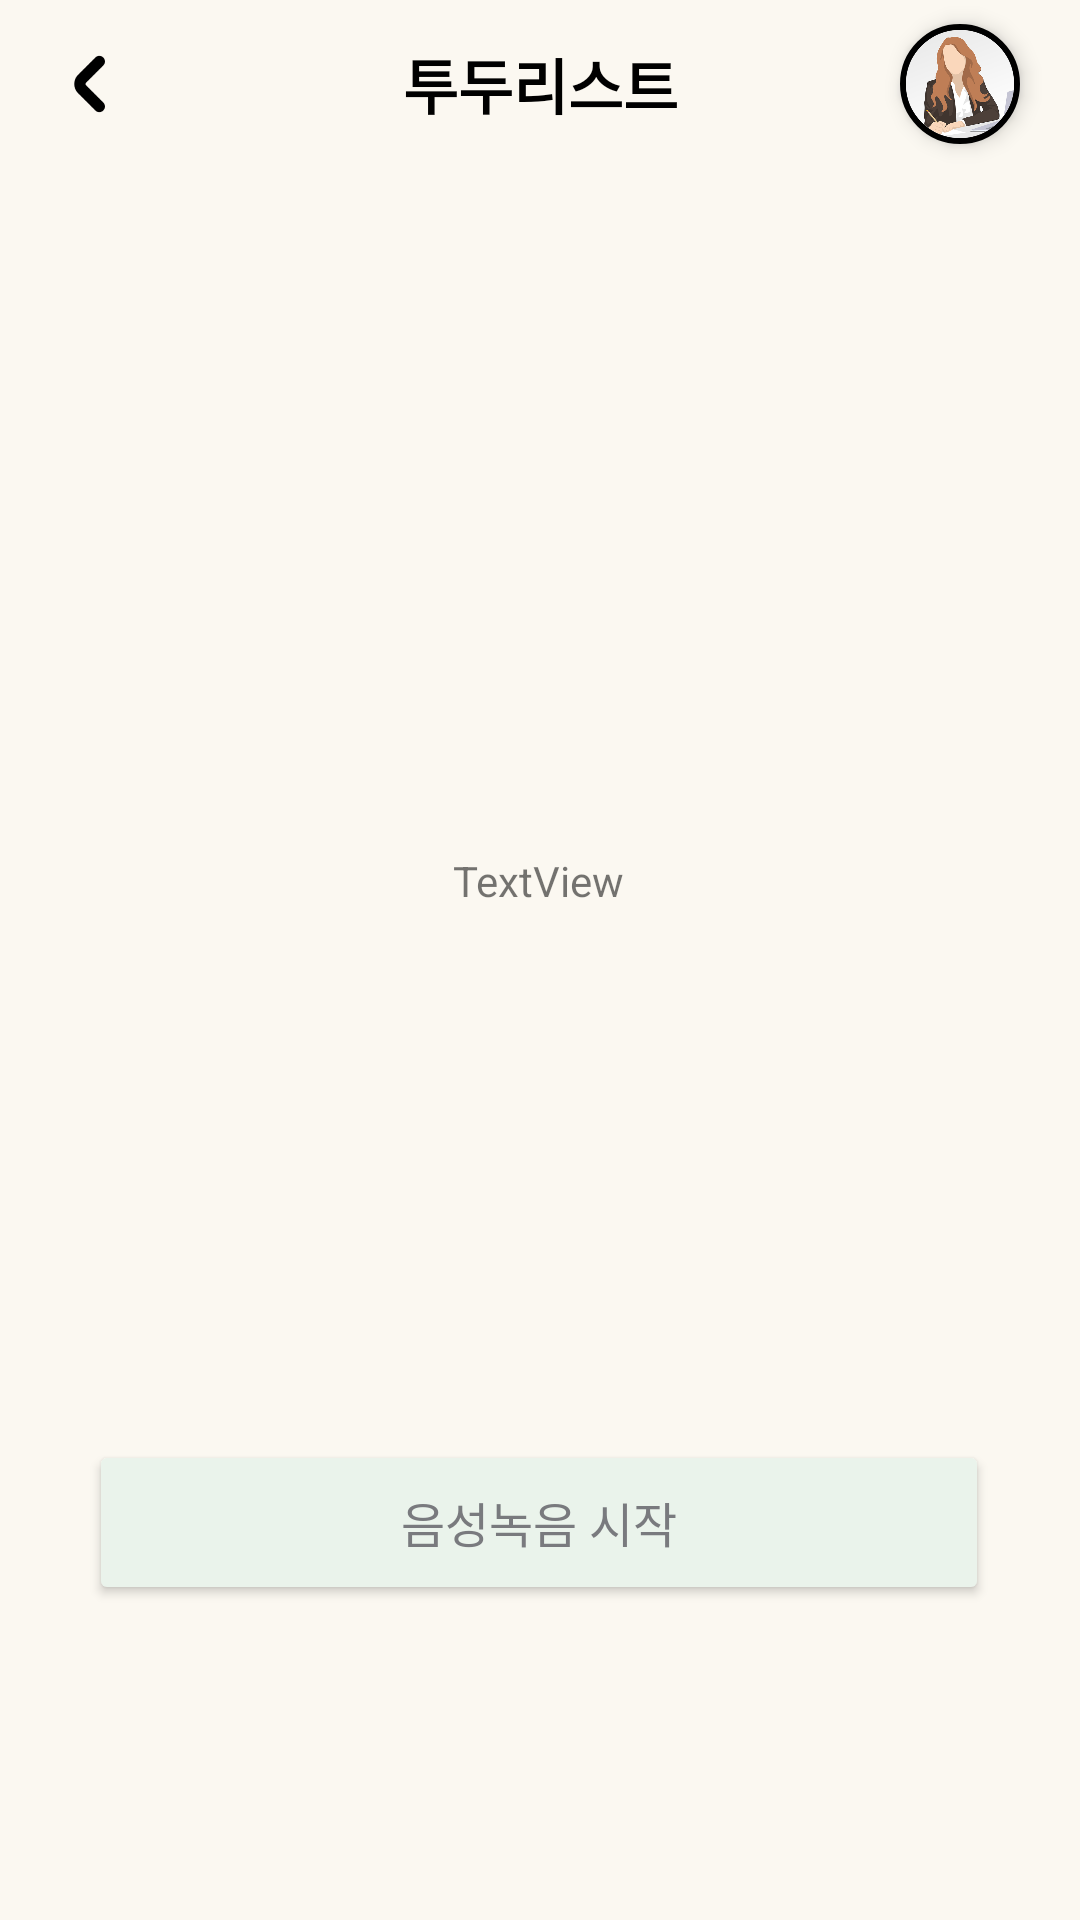

Locate icon controls on the screen. Image size 1080*1920, boxes as (x1, y1, x2, y2).
back: (74, 55, 105, 113)
profile: (900, 24, 1020, 144)
